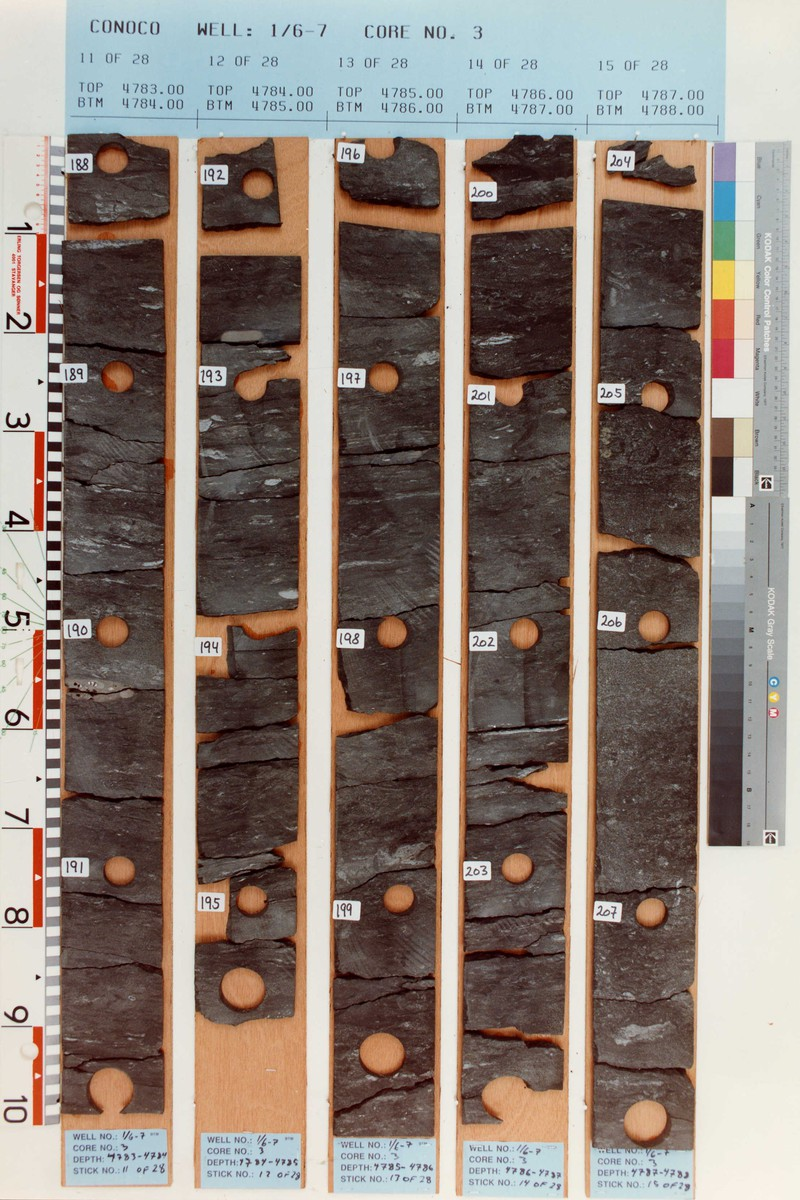core: (460, 132, 581, 1130), (591, 138, 703, 1152), (336, 134, 440, 1138), (63, 135, 167, 1115), (199, 140, 299, 1025)
